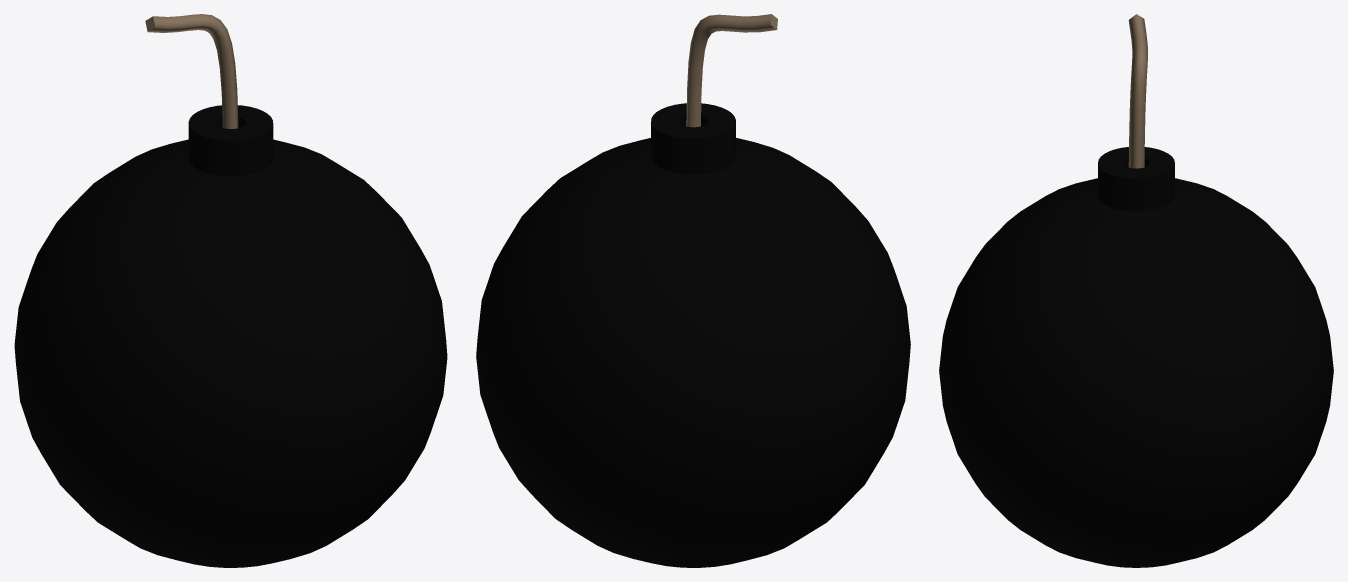
Rendered from bomb.fbx.
The picture shows the model from 3 angles, left to right: view 1: azimuth 30°, elevation 25°; view 2: azimuth 150°, elevation 25°; view 3: azimuth 270°, elevation 25°; orthographic projection. The views are drawn at different scales.
Parts seen in each view (by area): view 1: Base, Rope; view 2: Base, Rope; view 3: Base, Rope.
Boxes of the visible parts, left/top/right/bottom form: Base: left=14, top=105, right=447, bottom=567; Rope: left=145, top=14, right=238, bottom=128; Base: left=476, top=103, right=910, bottom=567; Rope: left=686, top=14, right=777, bottom=127; Base: left=939, top=147, right=1333, bottom=567; Rope: left=1128, top=14, right=1147, bottom=168.
Bounding box in the file's own units: 200 × 280 × 200.
